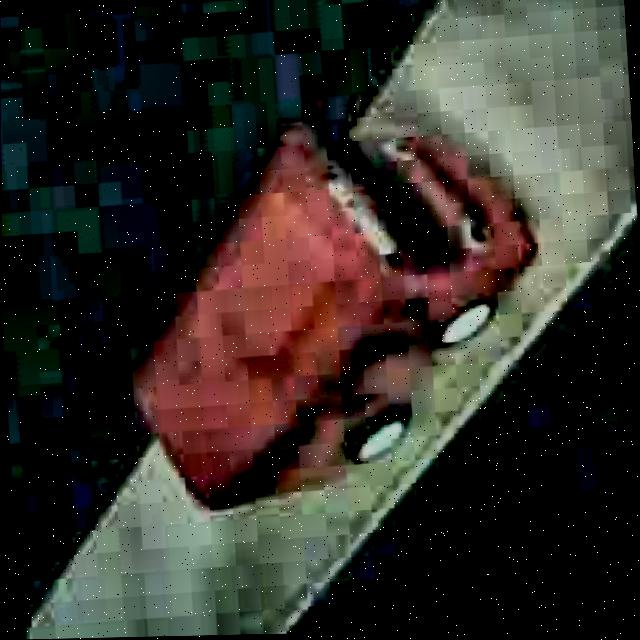bus: (116, 112, 553, 517)
